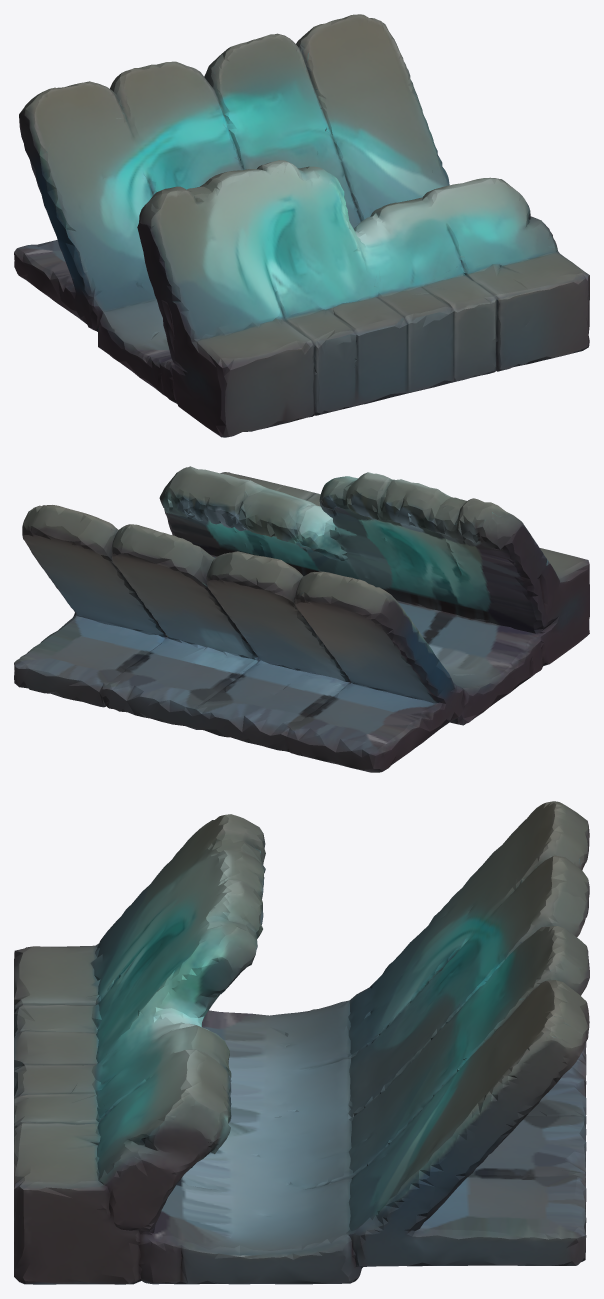
The model's file is Atlantis_RuinWall.glb.
The picture shows the model from 3 angles, top to bottom: view 1: azimuth 30°, elevation 25°; view 2: azimuth 150°, elevation 25°; view 3: azimuth 270°, elevation 25°; orthographic projection. The views are drawn at different scales.
Parts seen in each view (by area): view 1: Atlantis_RuinWall; view 2: Atlantis_RuinWall; view 3: Atlantis_RuinWall.
Boxes of the visible parts, <box> form: Atlantis_RuinWall: <box>14,14,589,437</box>; Atlantis_RuinWall: <box>14,466,589,772</box>; Atlantis_RuinWall: <box>14,801,589,1284</box>.
Size of the model in its own units: 2.6 by 1.3 by 2.58.
Materials: 1 (1 with a texture image).
